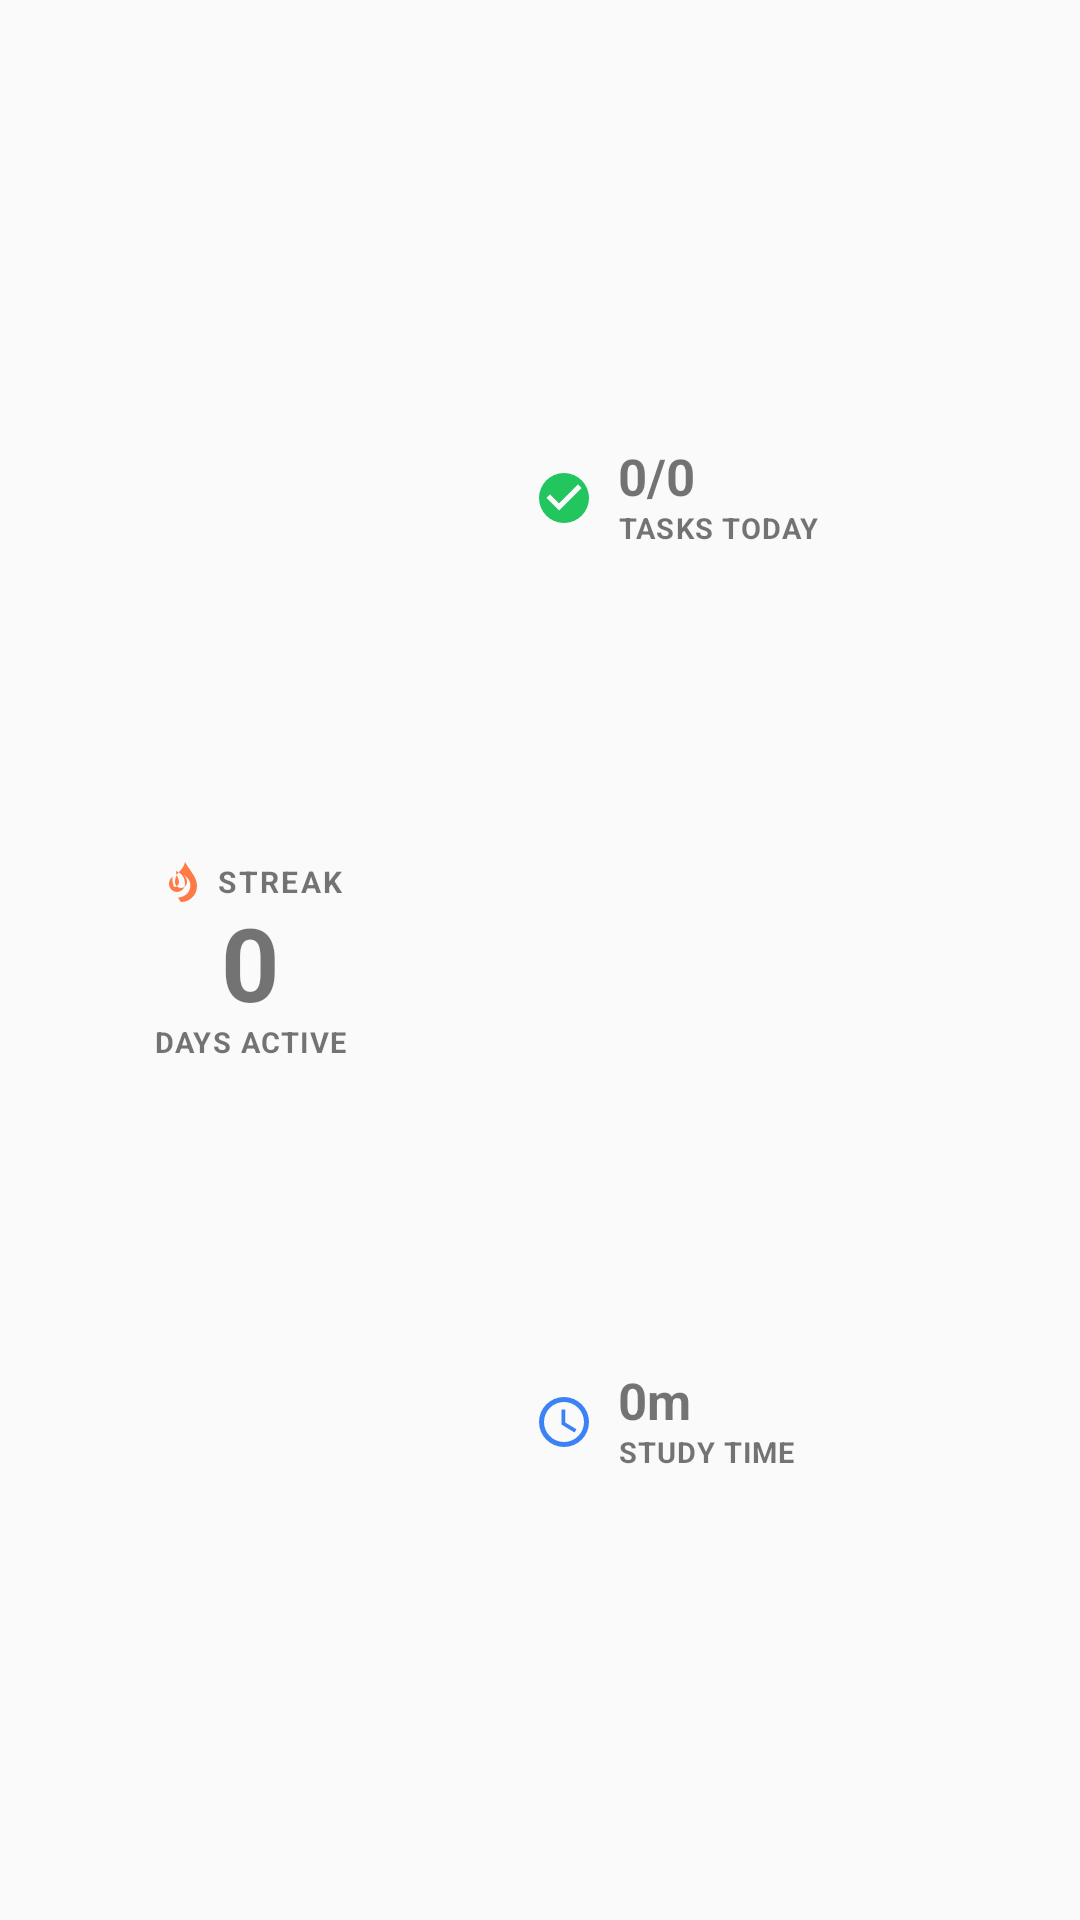

Screen size 1080 x 1920. Icon name, then its center in pixels as point (x, y):
widget check: point (564, 498)
widget clock: point (564, 1422)
widget flame: point (183, 882)
